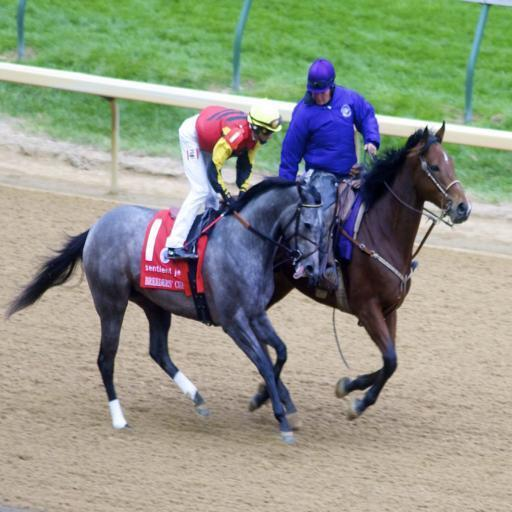horse: (2, 178, 322, 442), (220, 125, 473, 425)
